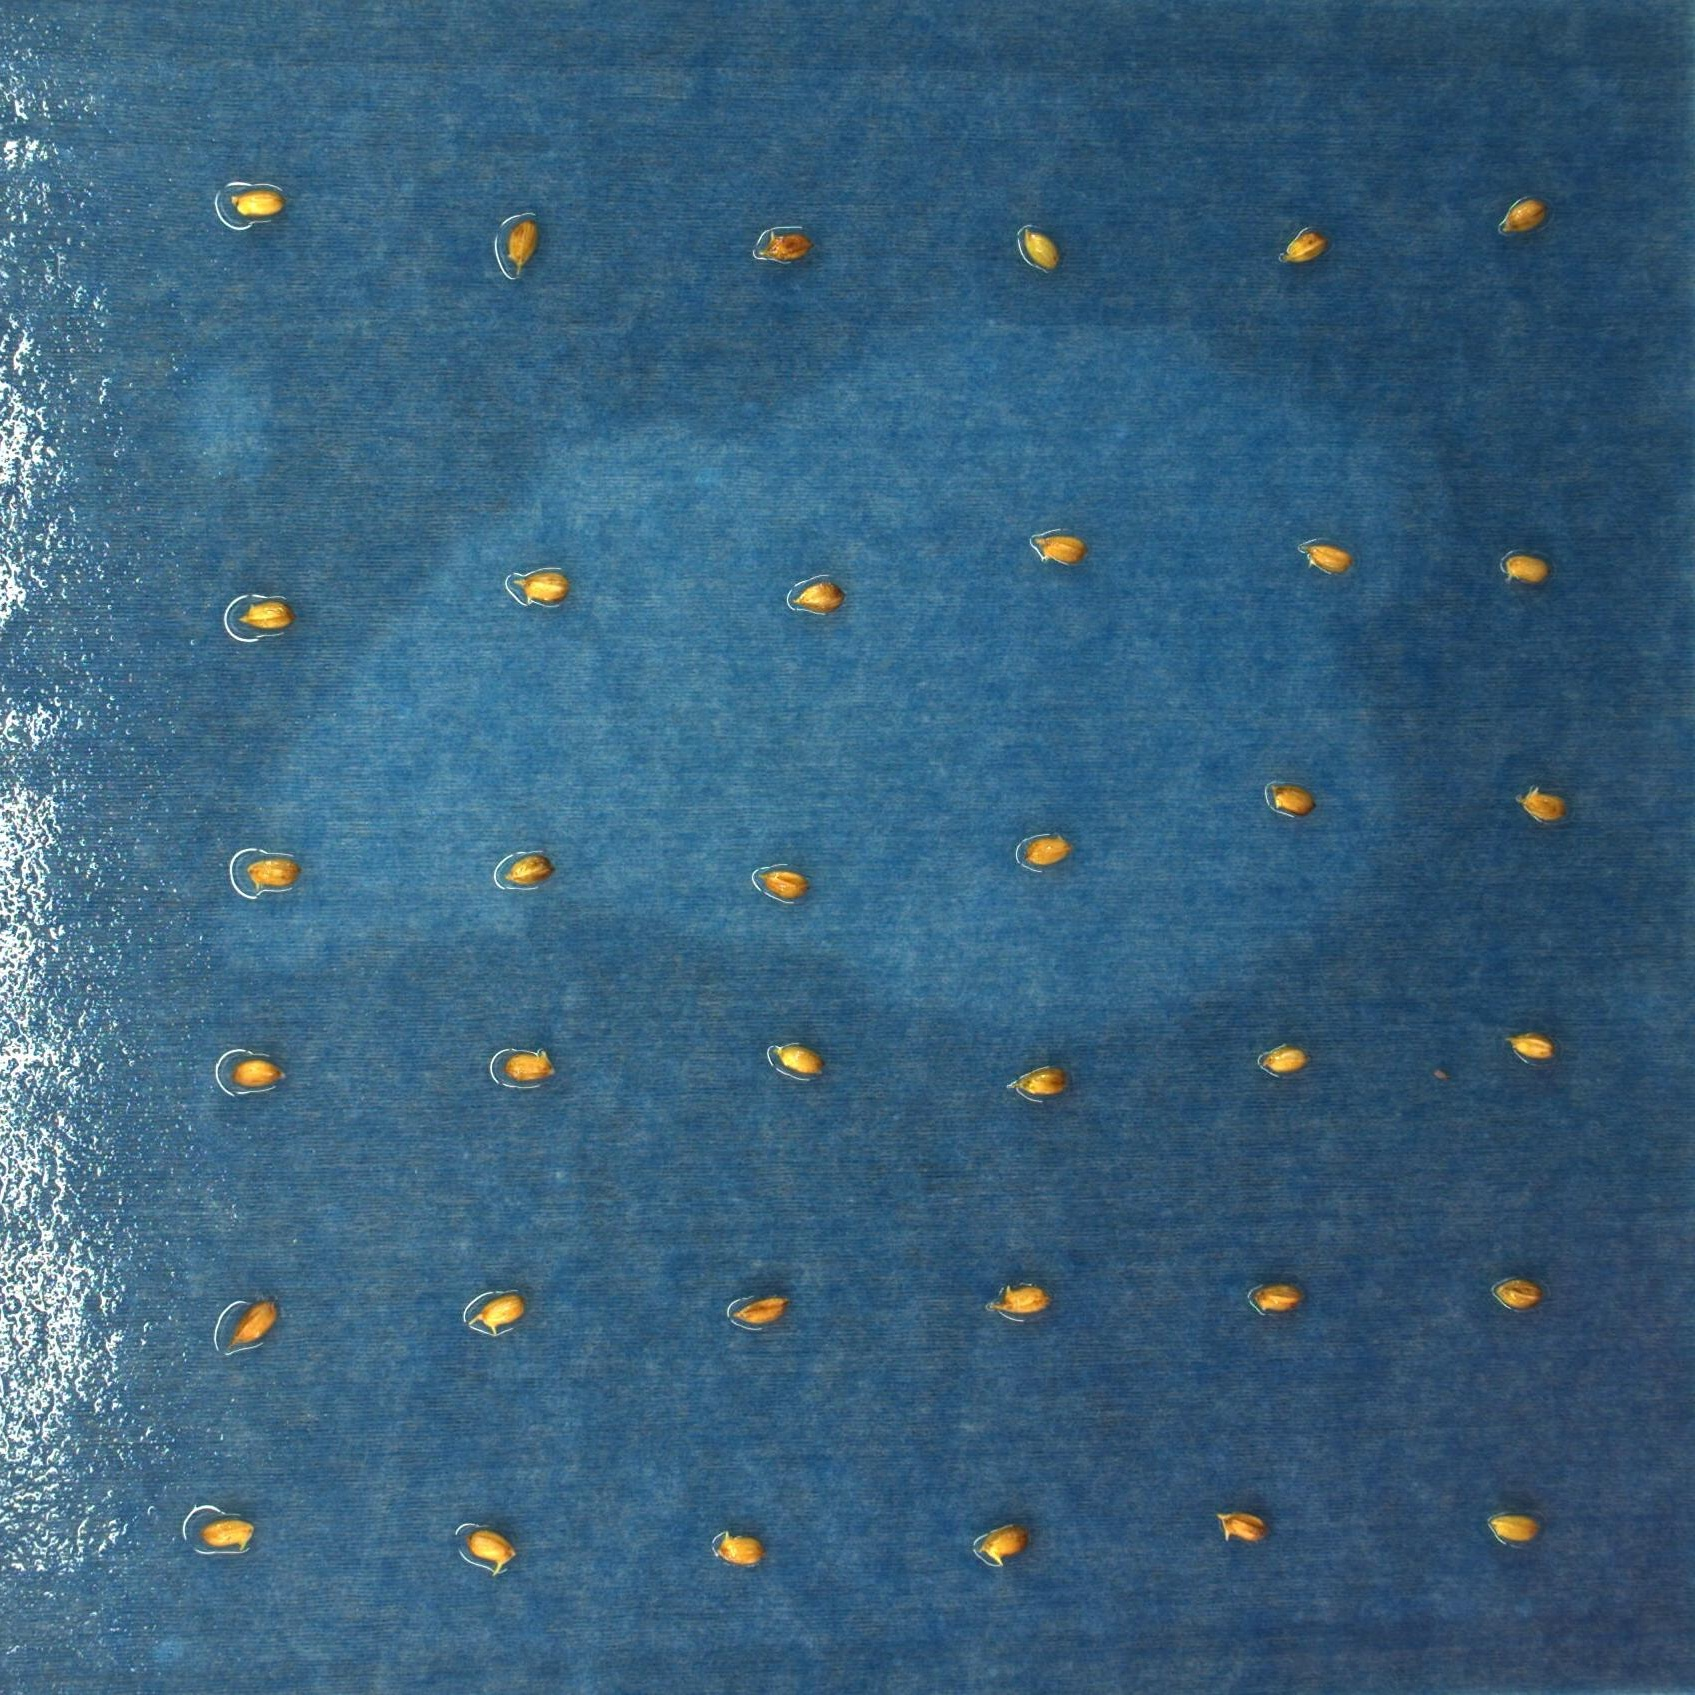not sprout: (224, 1296, 275, 1354), (463, 1527, 520, 1575), (747, 863, 810, 903), (990, 1277, 1051, 1318), (785, 576, 847, 615), (972, 1524, 1031, 1565), (709, 1530, 768, 1569), (227, 1054, 290, 1090), (467, 1295, 525, 1333), (504, 216, 540, 278), (1018, 830, 1074, 869), (1499, 189, 1544, 237), (1009, 1063, 1071, 1097), (512, 567, 567, 605), (1021, 220, 1062, 272), (242, 854, 300, 889), (500, 851, 557, 886), (771, 1040, 829, 1076), (1267, 782, 1319, 821), (1506, 1028, 1560, 1065), (237, 596, 293, 632), (501, 1049, 557, 1085), (1215, 1509, 1271, 1544), (1302, 540, 1357, 576), (1250, 1281, 1305, 1315), (230, 189, 289, 220), (1503, 549, 1554, 585), (754, 230, 810, 262), (194, 1521, 255, 1551), (1029, 534, 1087, 565), (734, 1295, 792, 1326), (1257, 1045, 1312, 1077), (1489, 1510, 1540, 1544), (1520, 787, 1565, 826), (1489, 1281, 1548, 1310), (1282, 231, 1327, 265)
